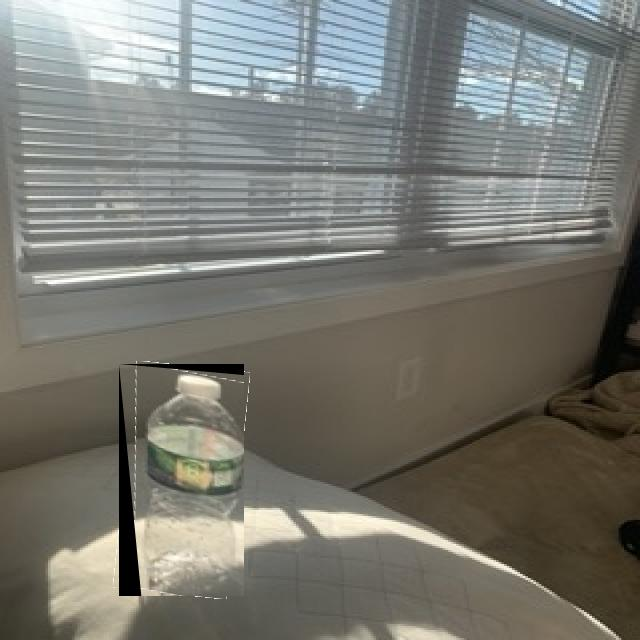water_bottle: (119, 364, 244, 596)
